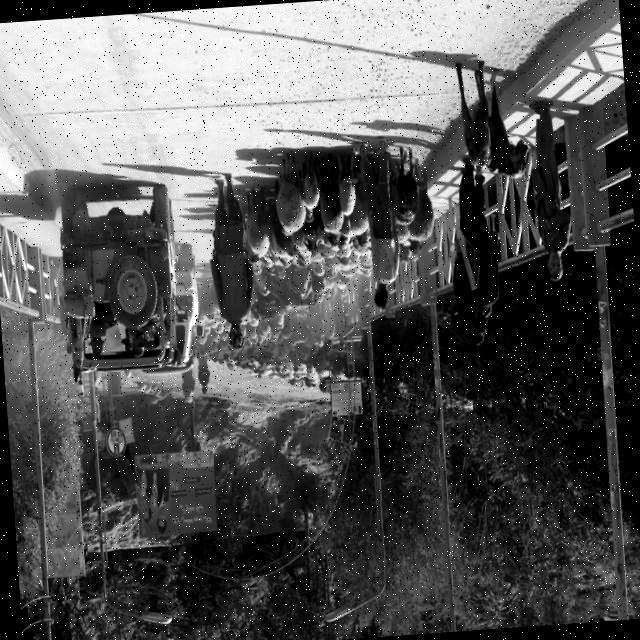sheep: (274, 152, 305, 235)
